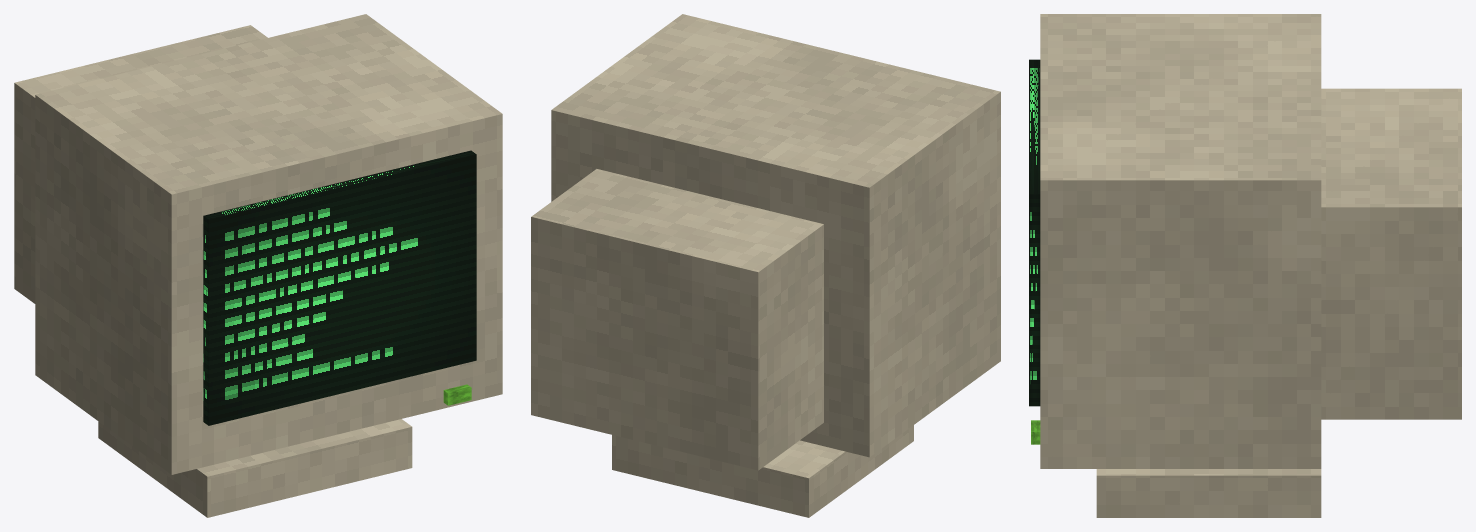
File: tfg_crt_monitor.glb
The picture shows the model from 3 angles, left to right: view 1: azimuth 30°, elevation 25°; view 2: azimuth 150°, elevation 25°; view 3: azimuth 270°, elevation 25°; orthographic projection. The views are drawn at different scales.
Visible parts, largest first — view 1: tfg_crt_monitor; view 2: tfg_crt_monitor; view 3: tfg_crt_monitor.
Part boxes in pixels (x1=…): tfg_crt_monitor: x1=14, y1=14, x2=502, y2=517; tfg_crt_monitor: x1=531, y1=14, x2=1000, y2=517; tfg_crt_monitor: x1=1029, y1=14, x2=1461, y2=517.
Size of the model in its own units: 0.42 by 0.435 by 0.462.
Materials: 3 (3 with a texture image).
